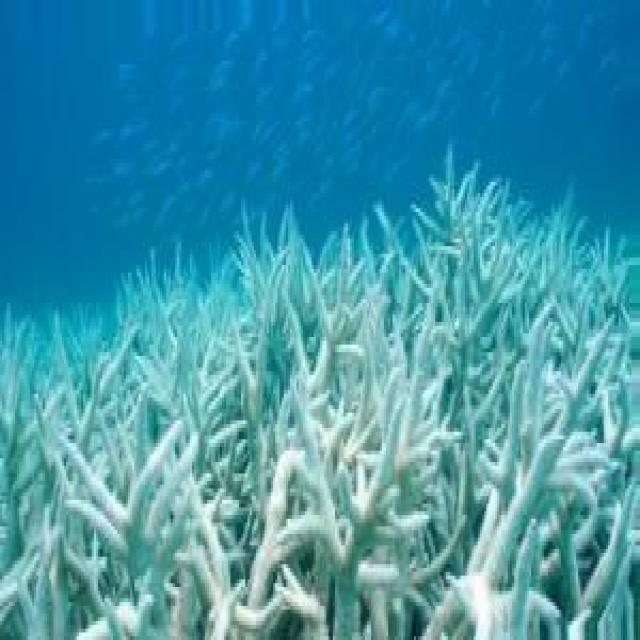bleached coral: (0, 164, 636, 639)
